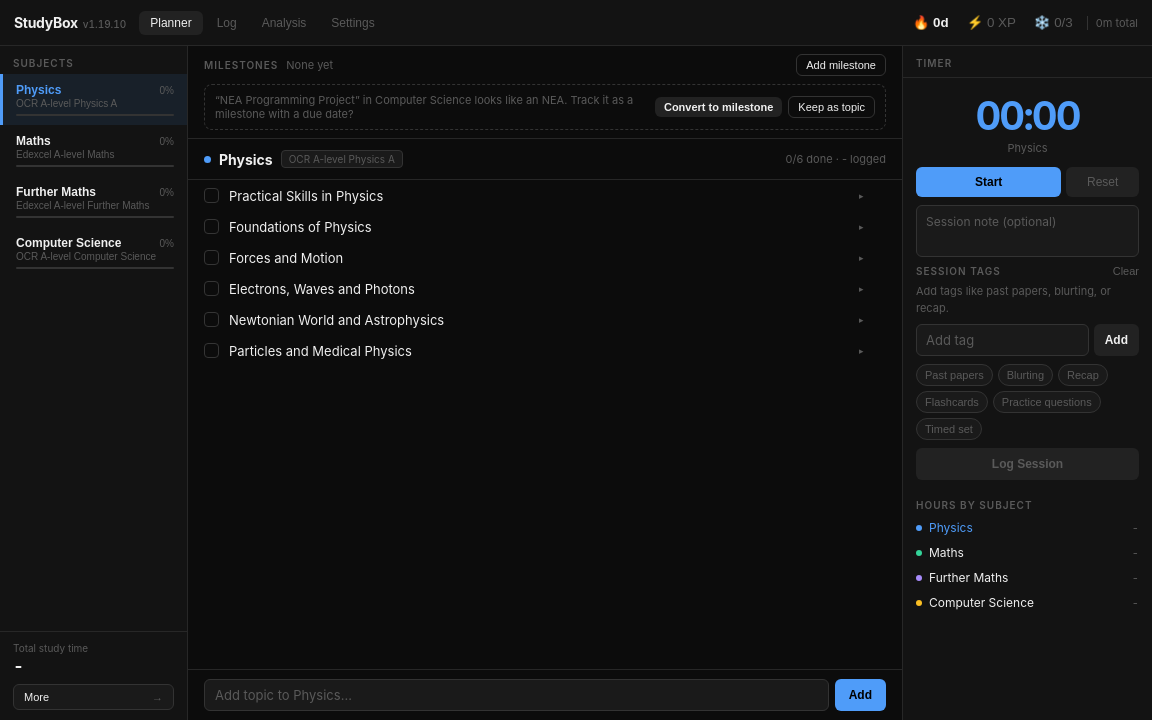
Test: StudyBox shell › analysis subject filter updates the per-subject stats
Click the button "Start" at [989, 182], box x1=916 y1=167 x2=1061 y2=197
Wait 60000 ms
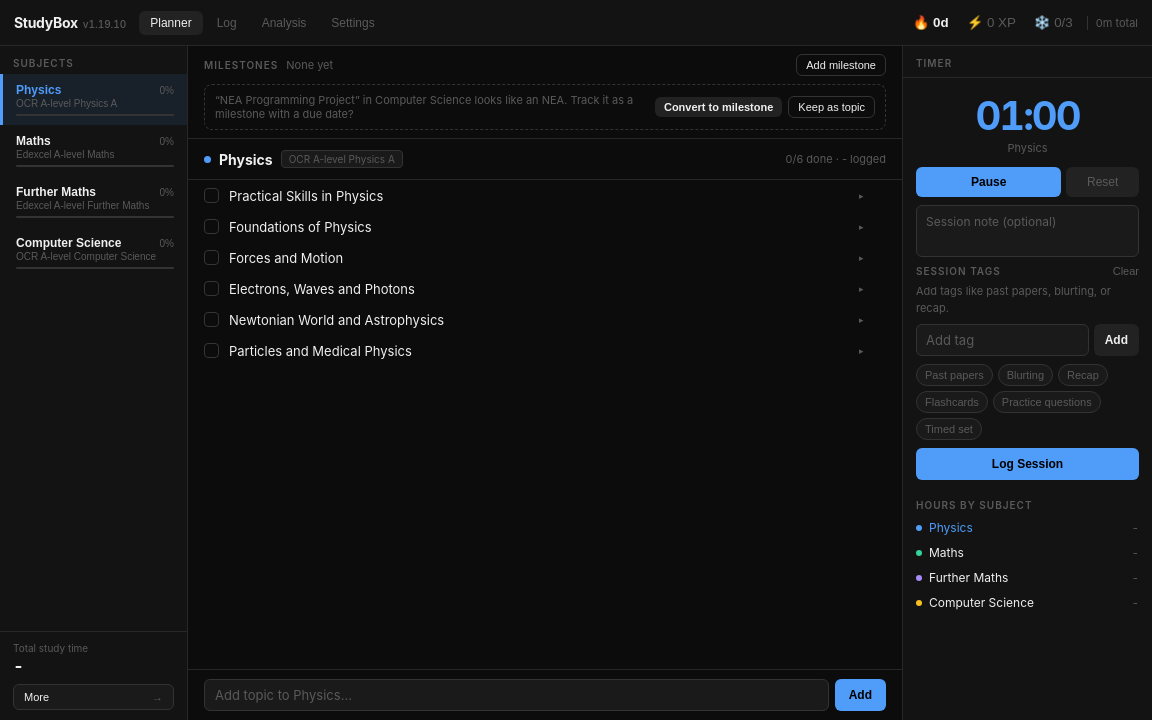
Click the button "Log Session" at [1028, 464], box x1=916 y1=448 x2=1139 y2=480
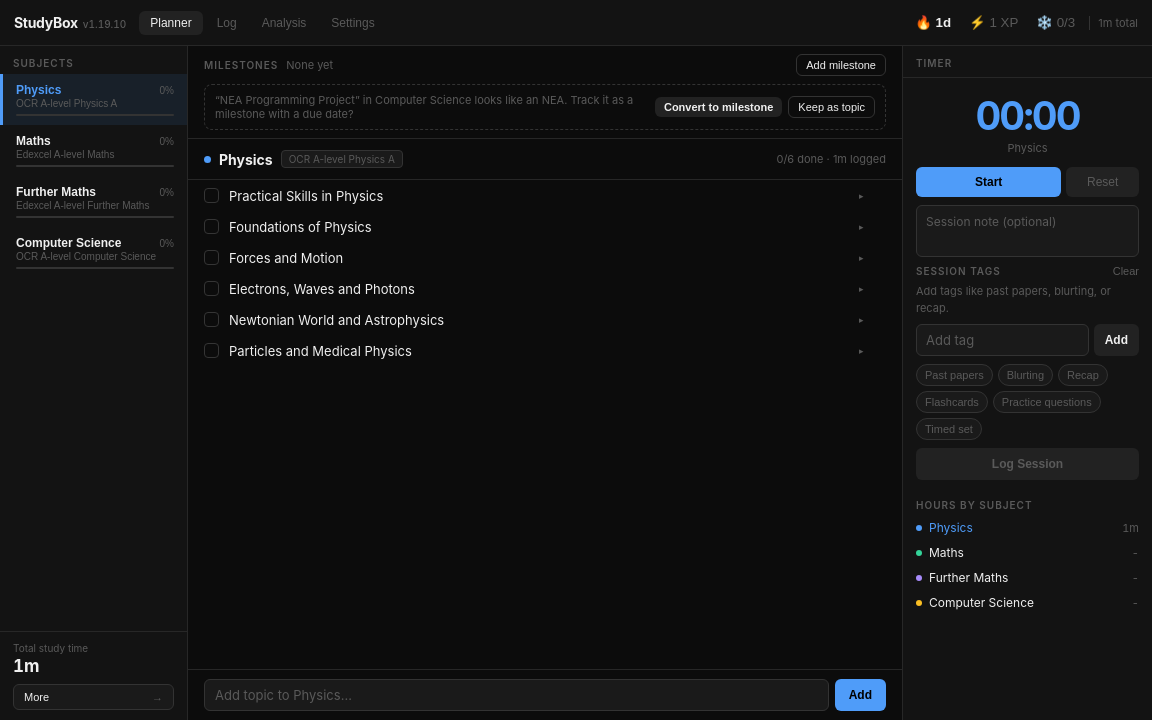
Click the button "Analysis" at [284, 22], box x1=251 y1=10 x2=317 y2=34
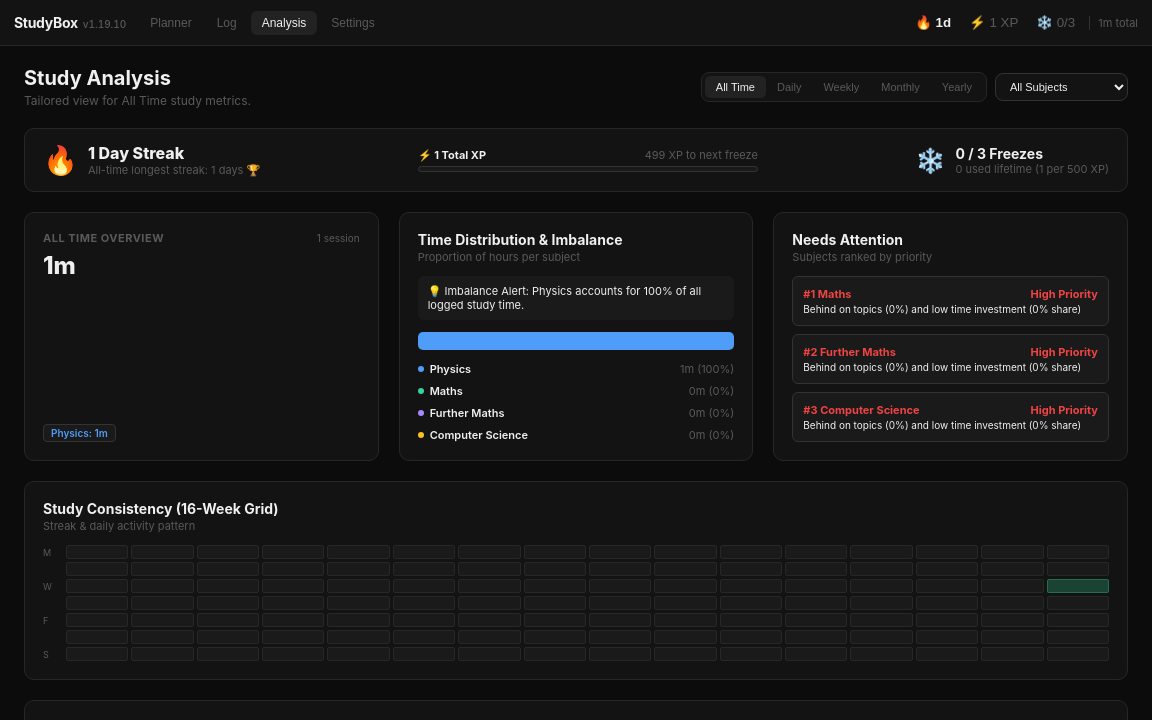
Select "Maths" in the dropdown at [1062, 87], box x1=995 y1=73 x2=1128 y2=101
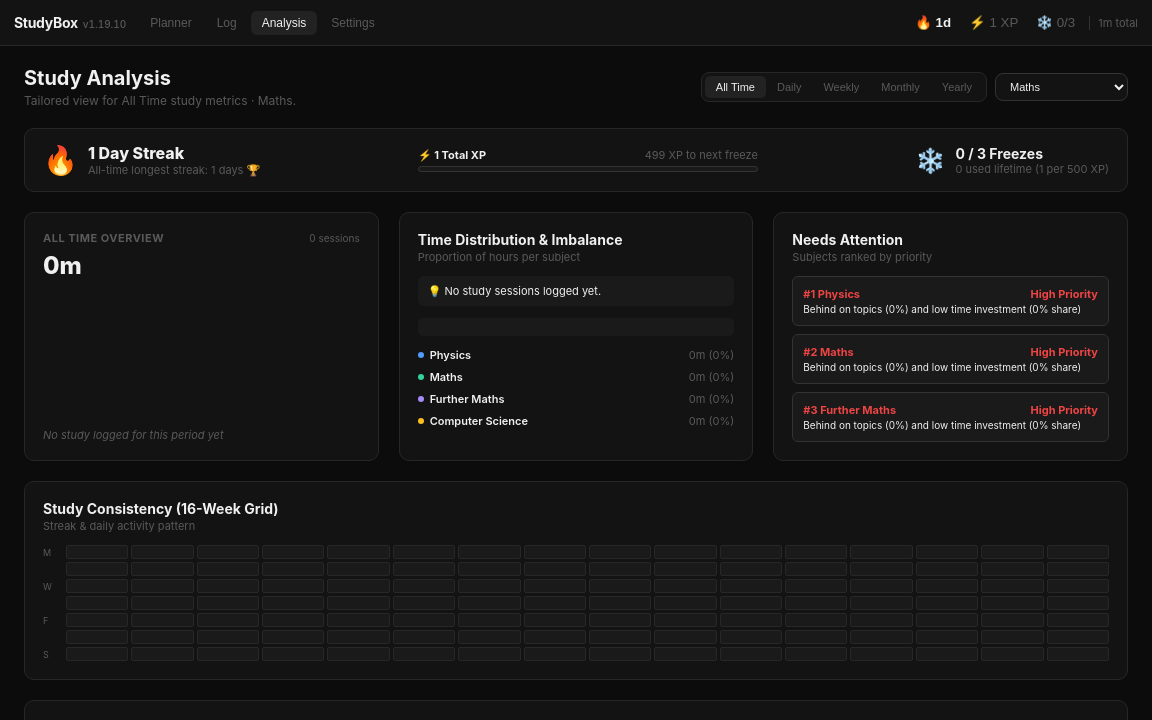
Expected: the text "Tailored view for All Time study metrics · Maths." is shown, x1=24 y1=93 x2=296 y2=108
Expected: the text "No study logged for this period yet" is shown, x1=43 y1=428 x2=224 y2=442
